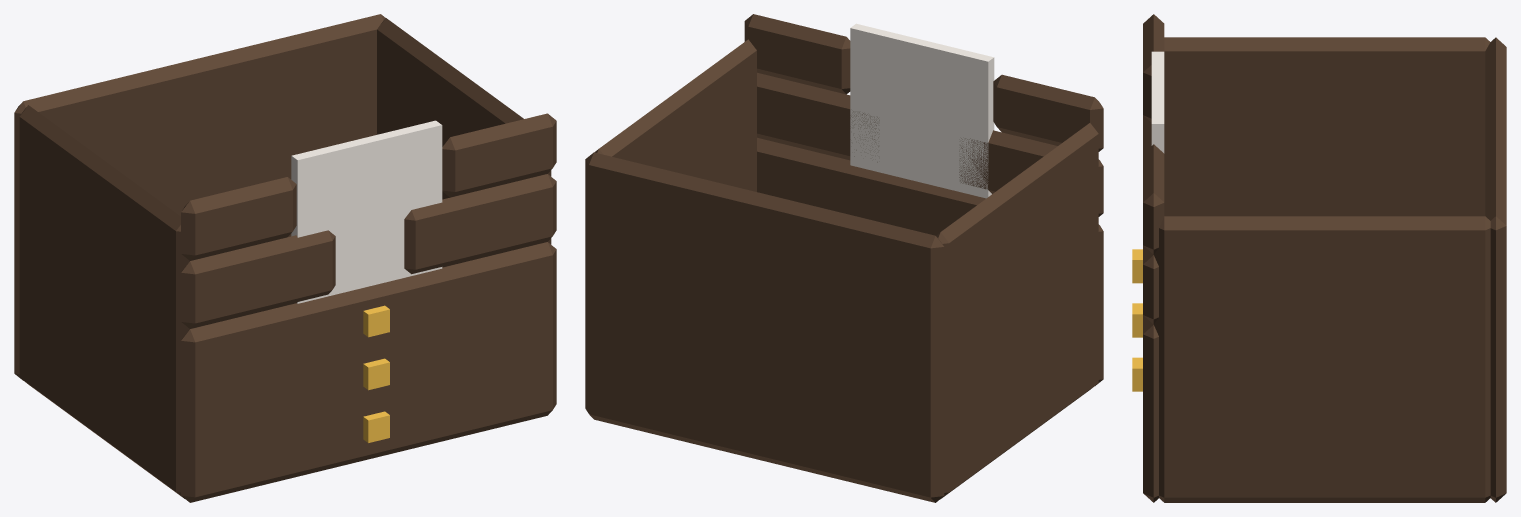
The model's file is CatCafe_Accessory_Vest.glb.
The picture shows the model from 3 angles, left to right: view 1: azimuth 30°, elevation 25°; view 2: azimuth 150°, elevation 25°; view 3: azimuth 270°, elevation 25°; orthographic projection. The views are drawn at different scales.
Visible parts, largest first — view 1: CatCafe_Accessory_Vest; view 2: CatCafe_Accessory_Vest; view 3: CatCafe_Accessory_Vest.
Boxes of the visible parts, x1=… form: CatCafe_Accessory_Vest: x1=14, y1=14, x2=556, y2=502; CatCafe_Accessory_Vest: x1=585, y1=14, x2=1103, y2=502; CatCafe_Accessory_Vest: x1=1132, y1=14, x2=1506, y2=502.
Bounding box in the file's own units: 1.04 × 0.84 × 0.875.
Materials: 1 (1 with a texture image).
